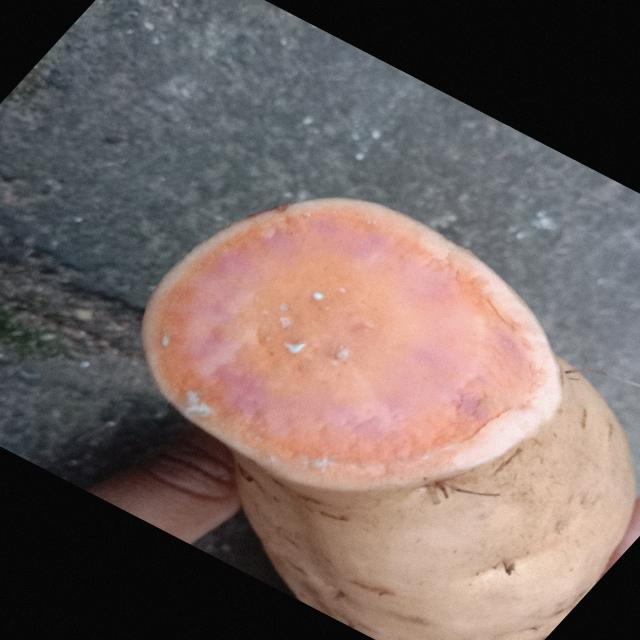Healthy Sweet Potato: (143, 199, 562, 489)
